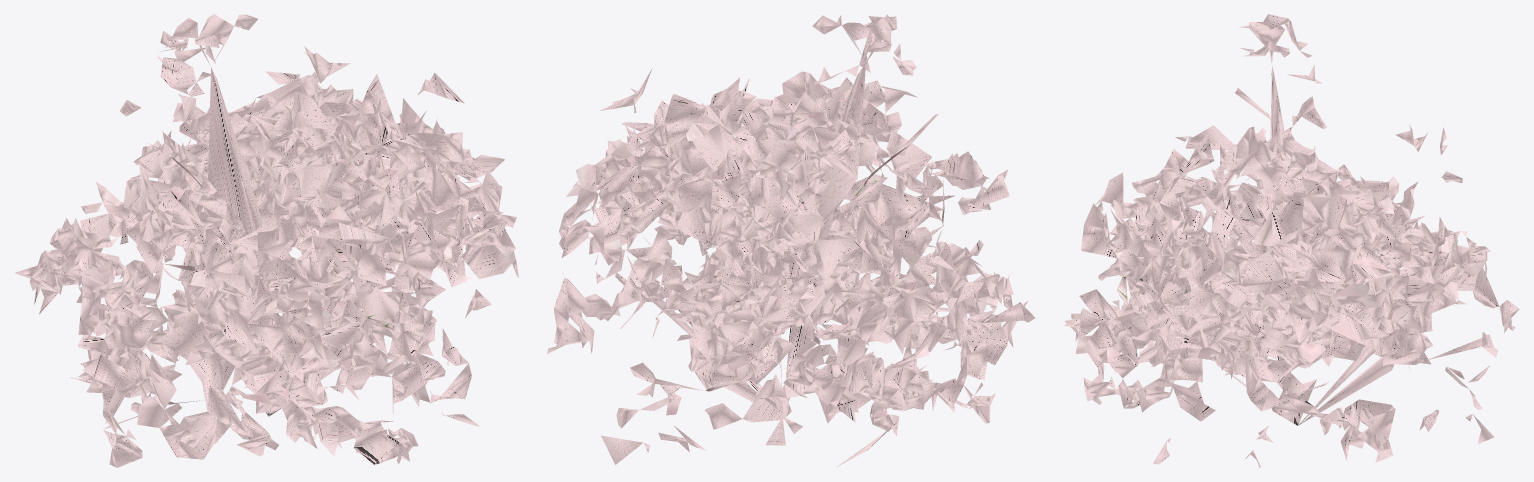
File: lib_blossom.lod.glb
3 views of the same model, side by side, from view 1: azimuth 30°, elevation 25°; view 2: azimuth 150°, elevation 25°; view 3: azimuth 270°, elevation 25° (orthographic). The views are drawn at different scales.
Visible parts, largest first — view 1: output_unwrapped; view 2: output_unwrapped; view 3: output_unwrapped.
Part boxes in pixels (left/top/right/bottom): output_unwrapped: left=14, top=14, right=518, bottom=467; output_unwrapped: left=547, top=14, right=1035, bottom=467; output_unwrapped: left=1064, top=14, right=1519, bottom=467.
Bounding box in the file's own units: 1.22 × 1.17 × 1.29.
Materials: 1 (1 with a texture image).
